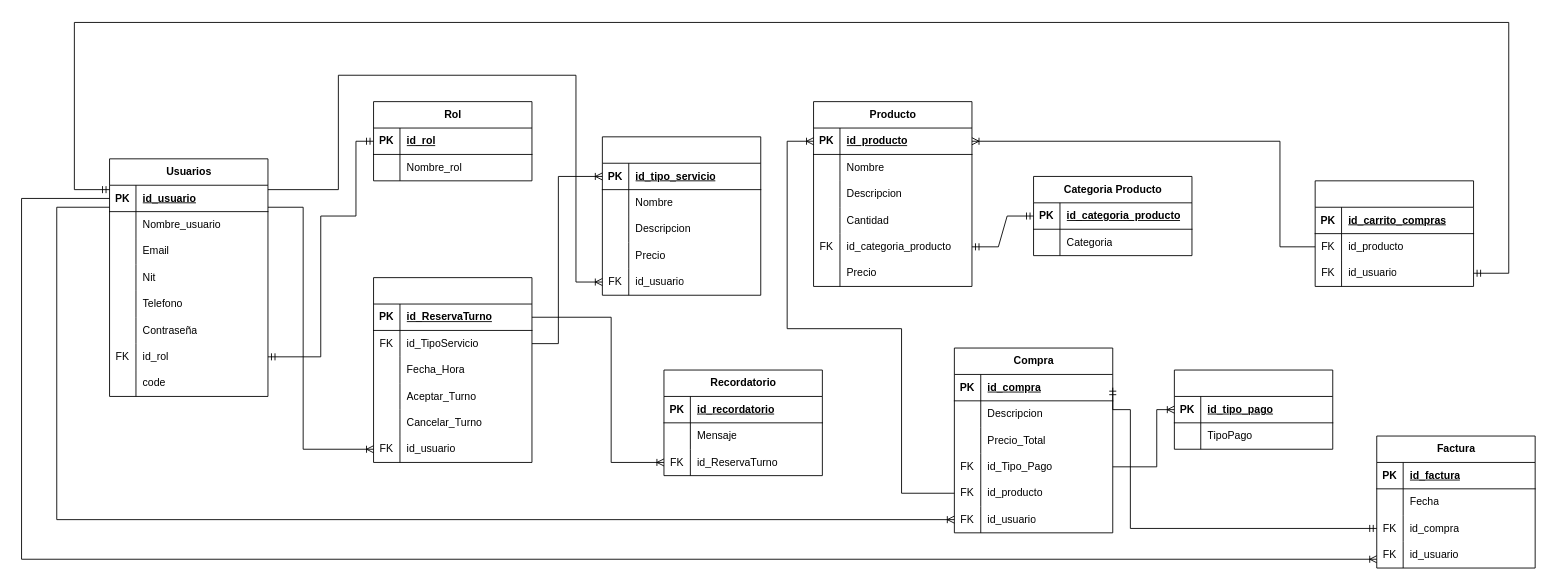
The diagram is 1551 pixels wide and 583 high, and some of its shapes have lost their labels. Each missing label, with the box of its shape:
Carrito de compras: (1314, 180, 1474, 286)
Reserva de Turno: (373, 277, 532, 462)
Tipo de pago: (1173, 369, 1333, 449)
Tipo de servicio: (601, 136, 761, 295)
